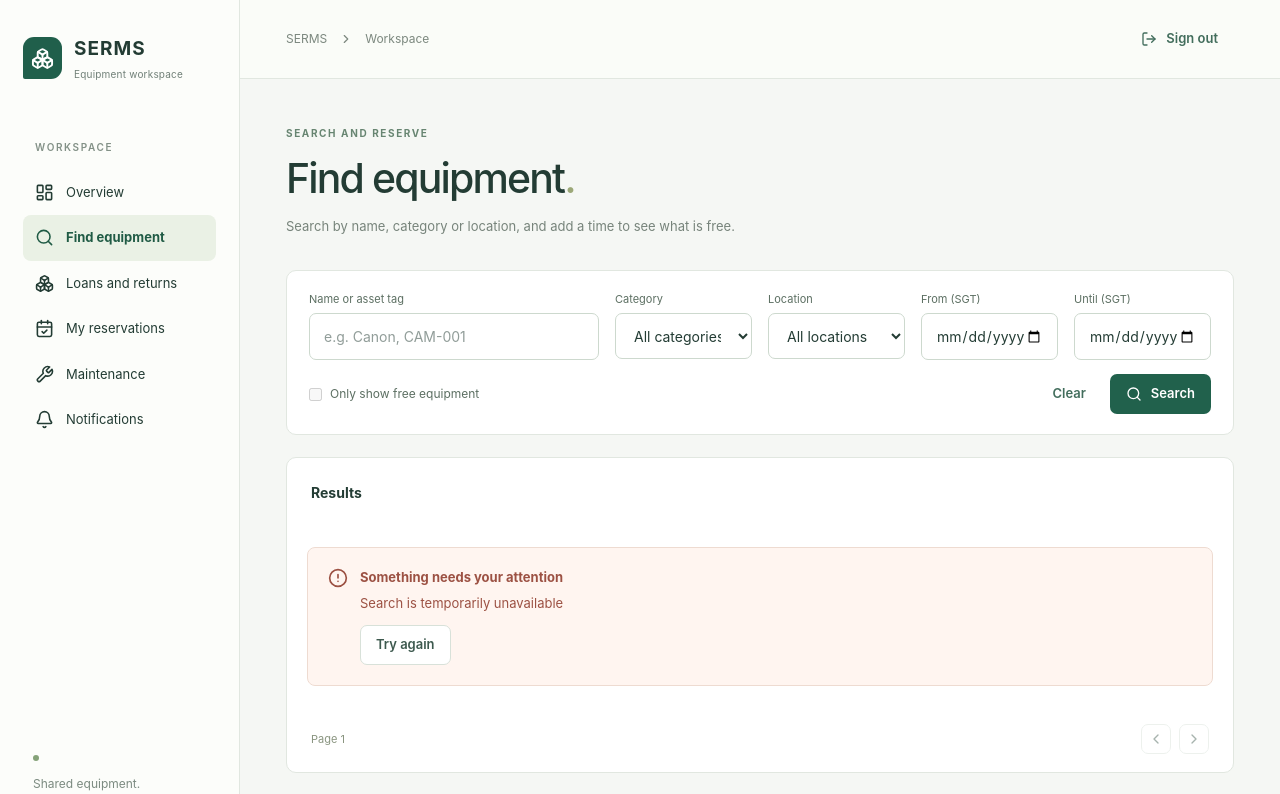
Scenario: equipment search (UC01) › shows an empty state and a retry on failure
Expected: the text "Search is temporarily unavailable" is shown, [360,594,563,613]
Click the button "Try again".
click(405, 645)  # box [360,625,451,665]
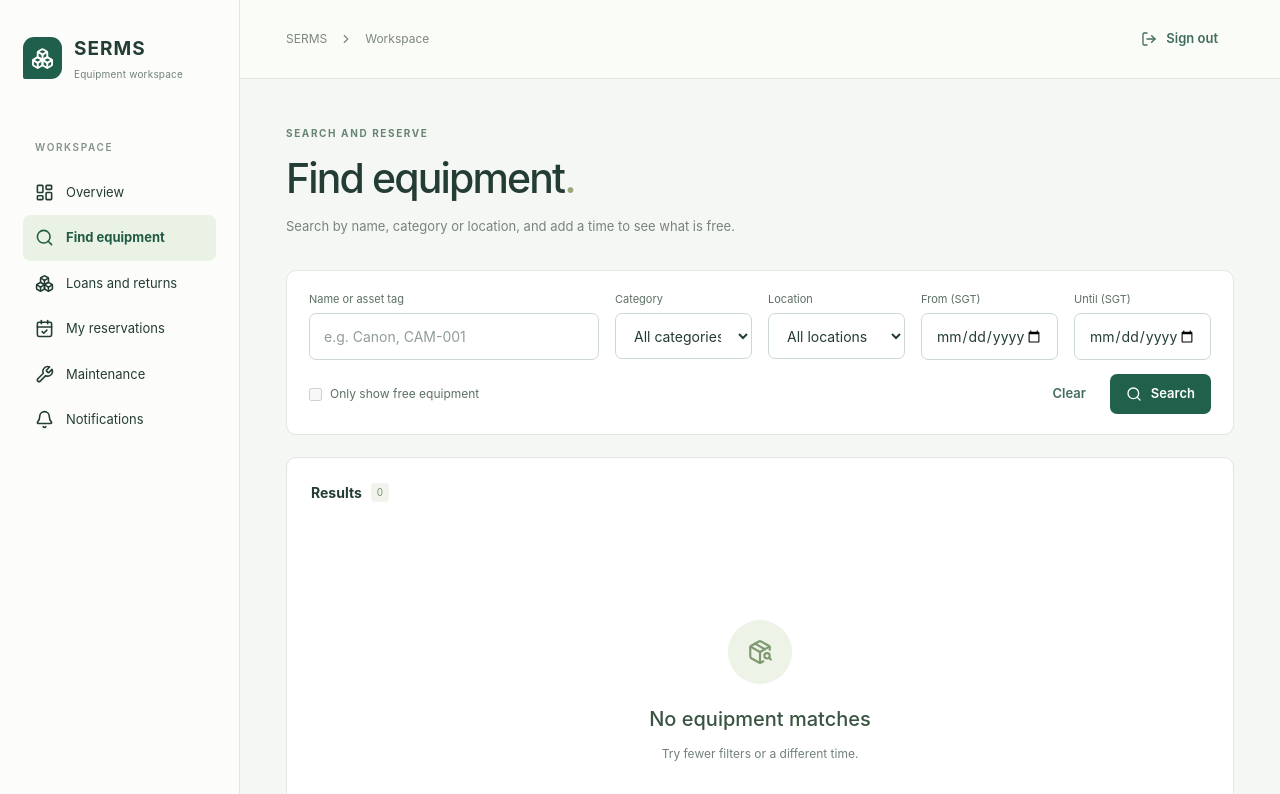
Result: the heading "No equipment matches" is shown at [649,704,871,734]
